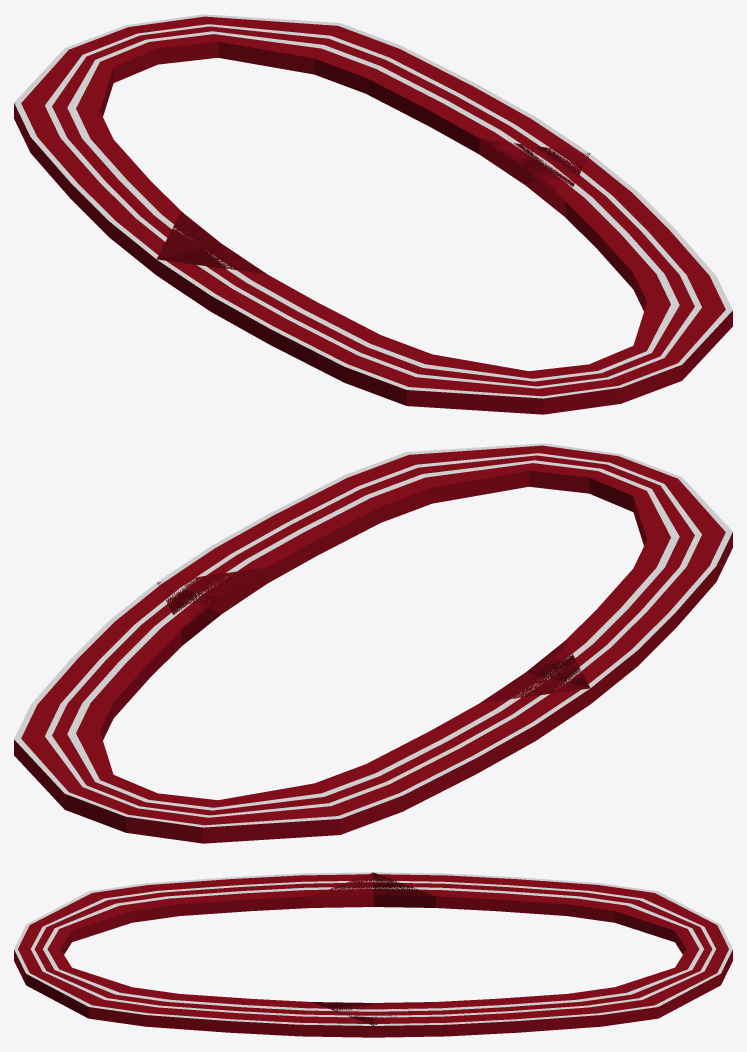
The model's file is pista1.fbx.
3 renders of one model, top to bottom at view 1: azimuth 30°, elevation 25°; view 2: azimuth 150°, elevation 25°; view 3: azimuth 270°, elevation 25°, orthographic. The views are drawn at different scales.
Parts seen in each view (by area): view 1: Cylinder; view 2: Cylinder; view 3: Cylinder.
Boxes of the visible parts, <box> form: Cylinder: <box>14,14,732,414</box>; Cylinder: <box>14,443,732,843</box>; Cylinder: <box>14,872,732,1037</box>.
Size of the model in its own units: 1094 by 38.77 by 2163.
